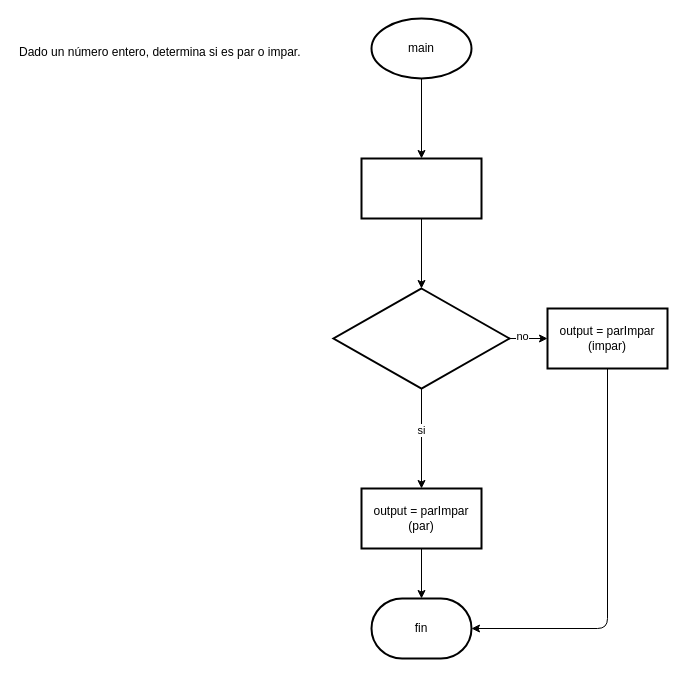
Image size: 685x676. Some labels were removed from this diagram. The centre of each missing label's shape, as x and y in pixels:
"si parImpar % 2 == 0" goes at (x=421, y=338).
"variable int parImpar = numero" goes at (x=421, y=188).
